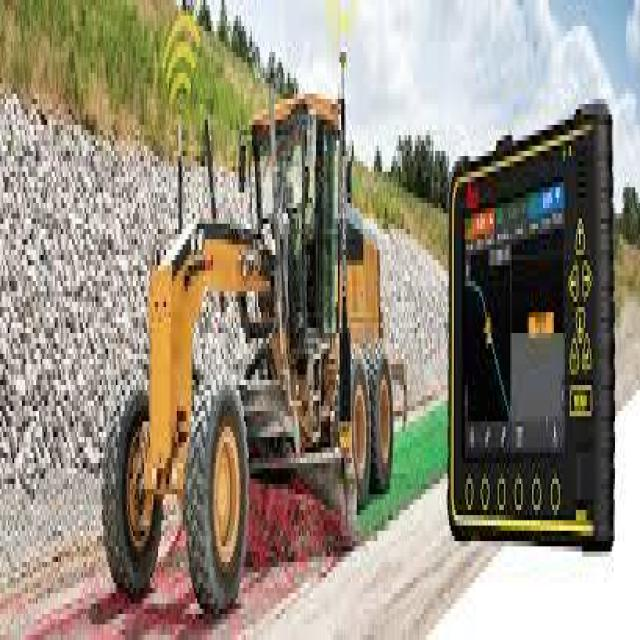buldozerpayloadergrader: (97, 26, 424, 593)
